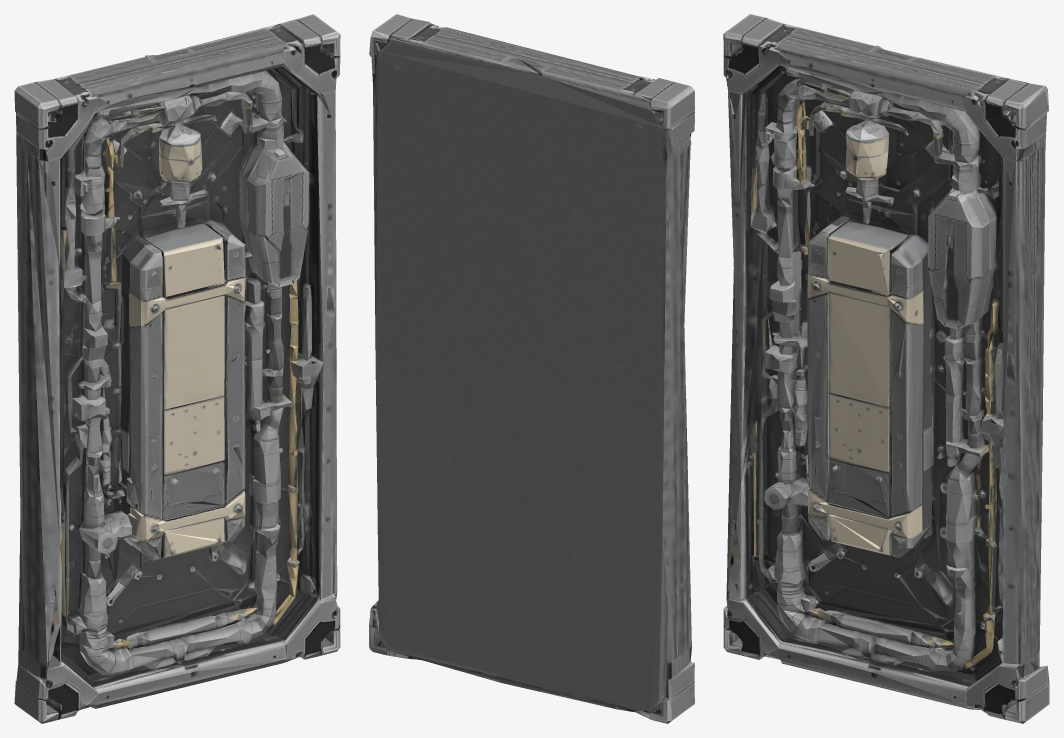
The model's file is wall_panel_conduit.glb.
3 renders of one model, left to right at view 1: azimuth 30°, elevation 25°; view 2: azimuth 150°, elevation 25°; view 3: azimuth 330°, elevation 25°, orthographic.
Visible parts, largest first — view 1: output_unwrapped; view 2: output_unwrapped; view 3: output_unwrapped.
Boxes of the visible parts, bbox=[...] form: output_unwrapped: bbox=[14, 14, 340, 723]; output_unwrapped: bbox=[369, 14, 694, 723]; output_unwrapped: bbox=[723, 14, 1049, 723].
Bounding box in the file's own units: 0.9706 × 1.9 × 0.2173.
1 material, 1 textured.
